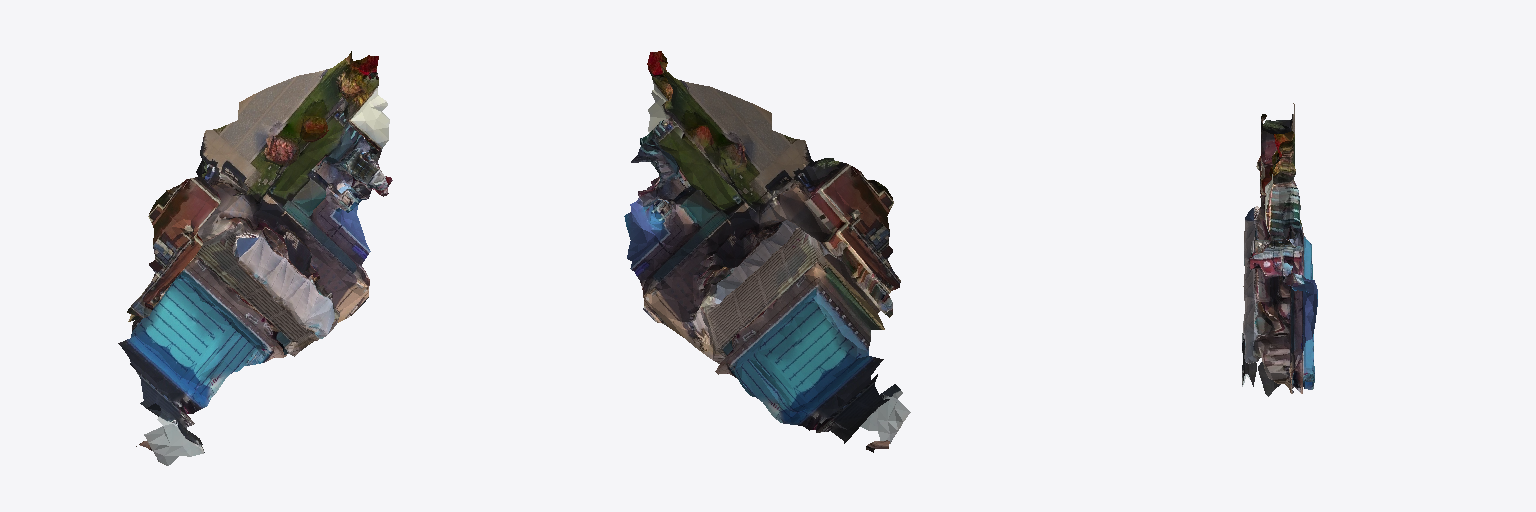
3 views of the same model, side by side, from view 1: azimuth 30°, elevation 25°; view 2: azimuth 150°, elevation 25°; view 3: azimuth 270°, elevation 25° (orthographic).
Bounding box in the file's own units: 70.8 × 93.49 × 18.38.
1 materials, 1 textured.